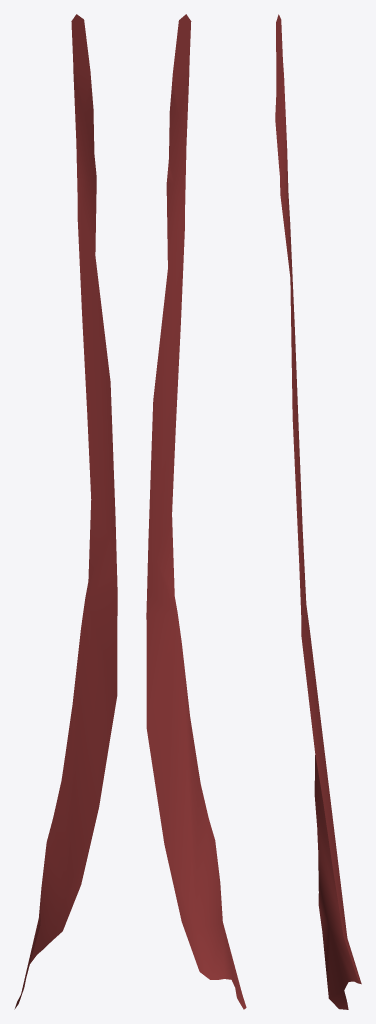
The model's file is short-head-of-biceps-femoris-el.glb.
The picture shows the model from 3 angles, left to right: view 1: azimuth 30°, elevation 25°; view 2: azimuth 210°, elevation 25°; view 3: azimuth 270°, elevation 25°; orthographic projection. The views are drawn at different scales.
Visible parts, largest first — view 1: Short head of biceps femoris.el; view 2: Short head of biceps femoris.el; view 3: Short head of biceps femoris.el.
Boxes of the visible parts, x1,y1,x2,y2 form: Short head of biceps femoris.el: [14, 14, 117, 1009]; Short head of biceps femoris.el: [146, 14, 246, 1009]; Short head of biceps femoris.el: [275, 14, 361, 1009].
Size of the model in its own units: 0.0188 by 0.1982 by 0.0154.
